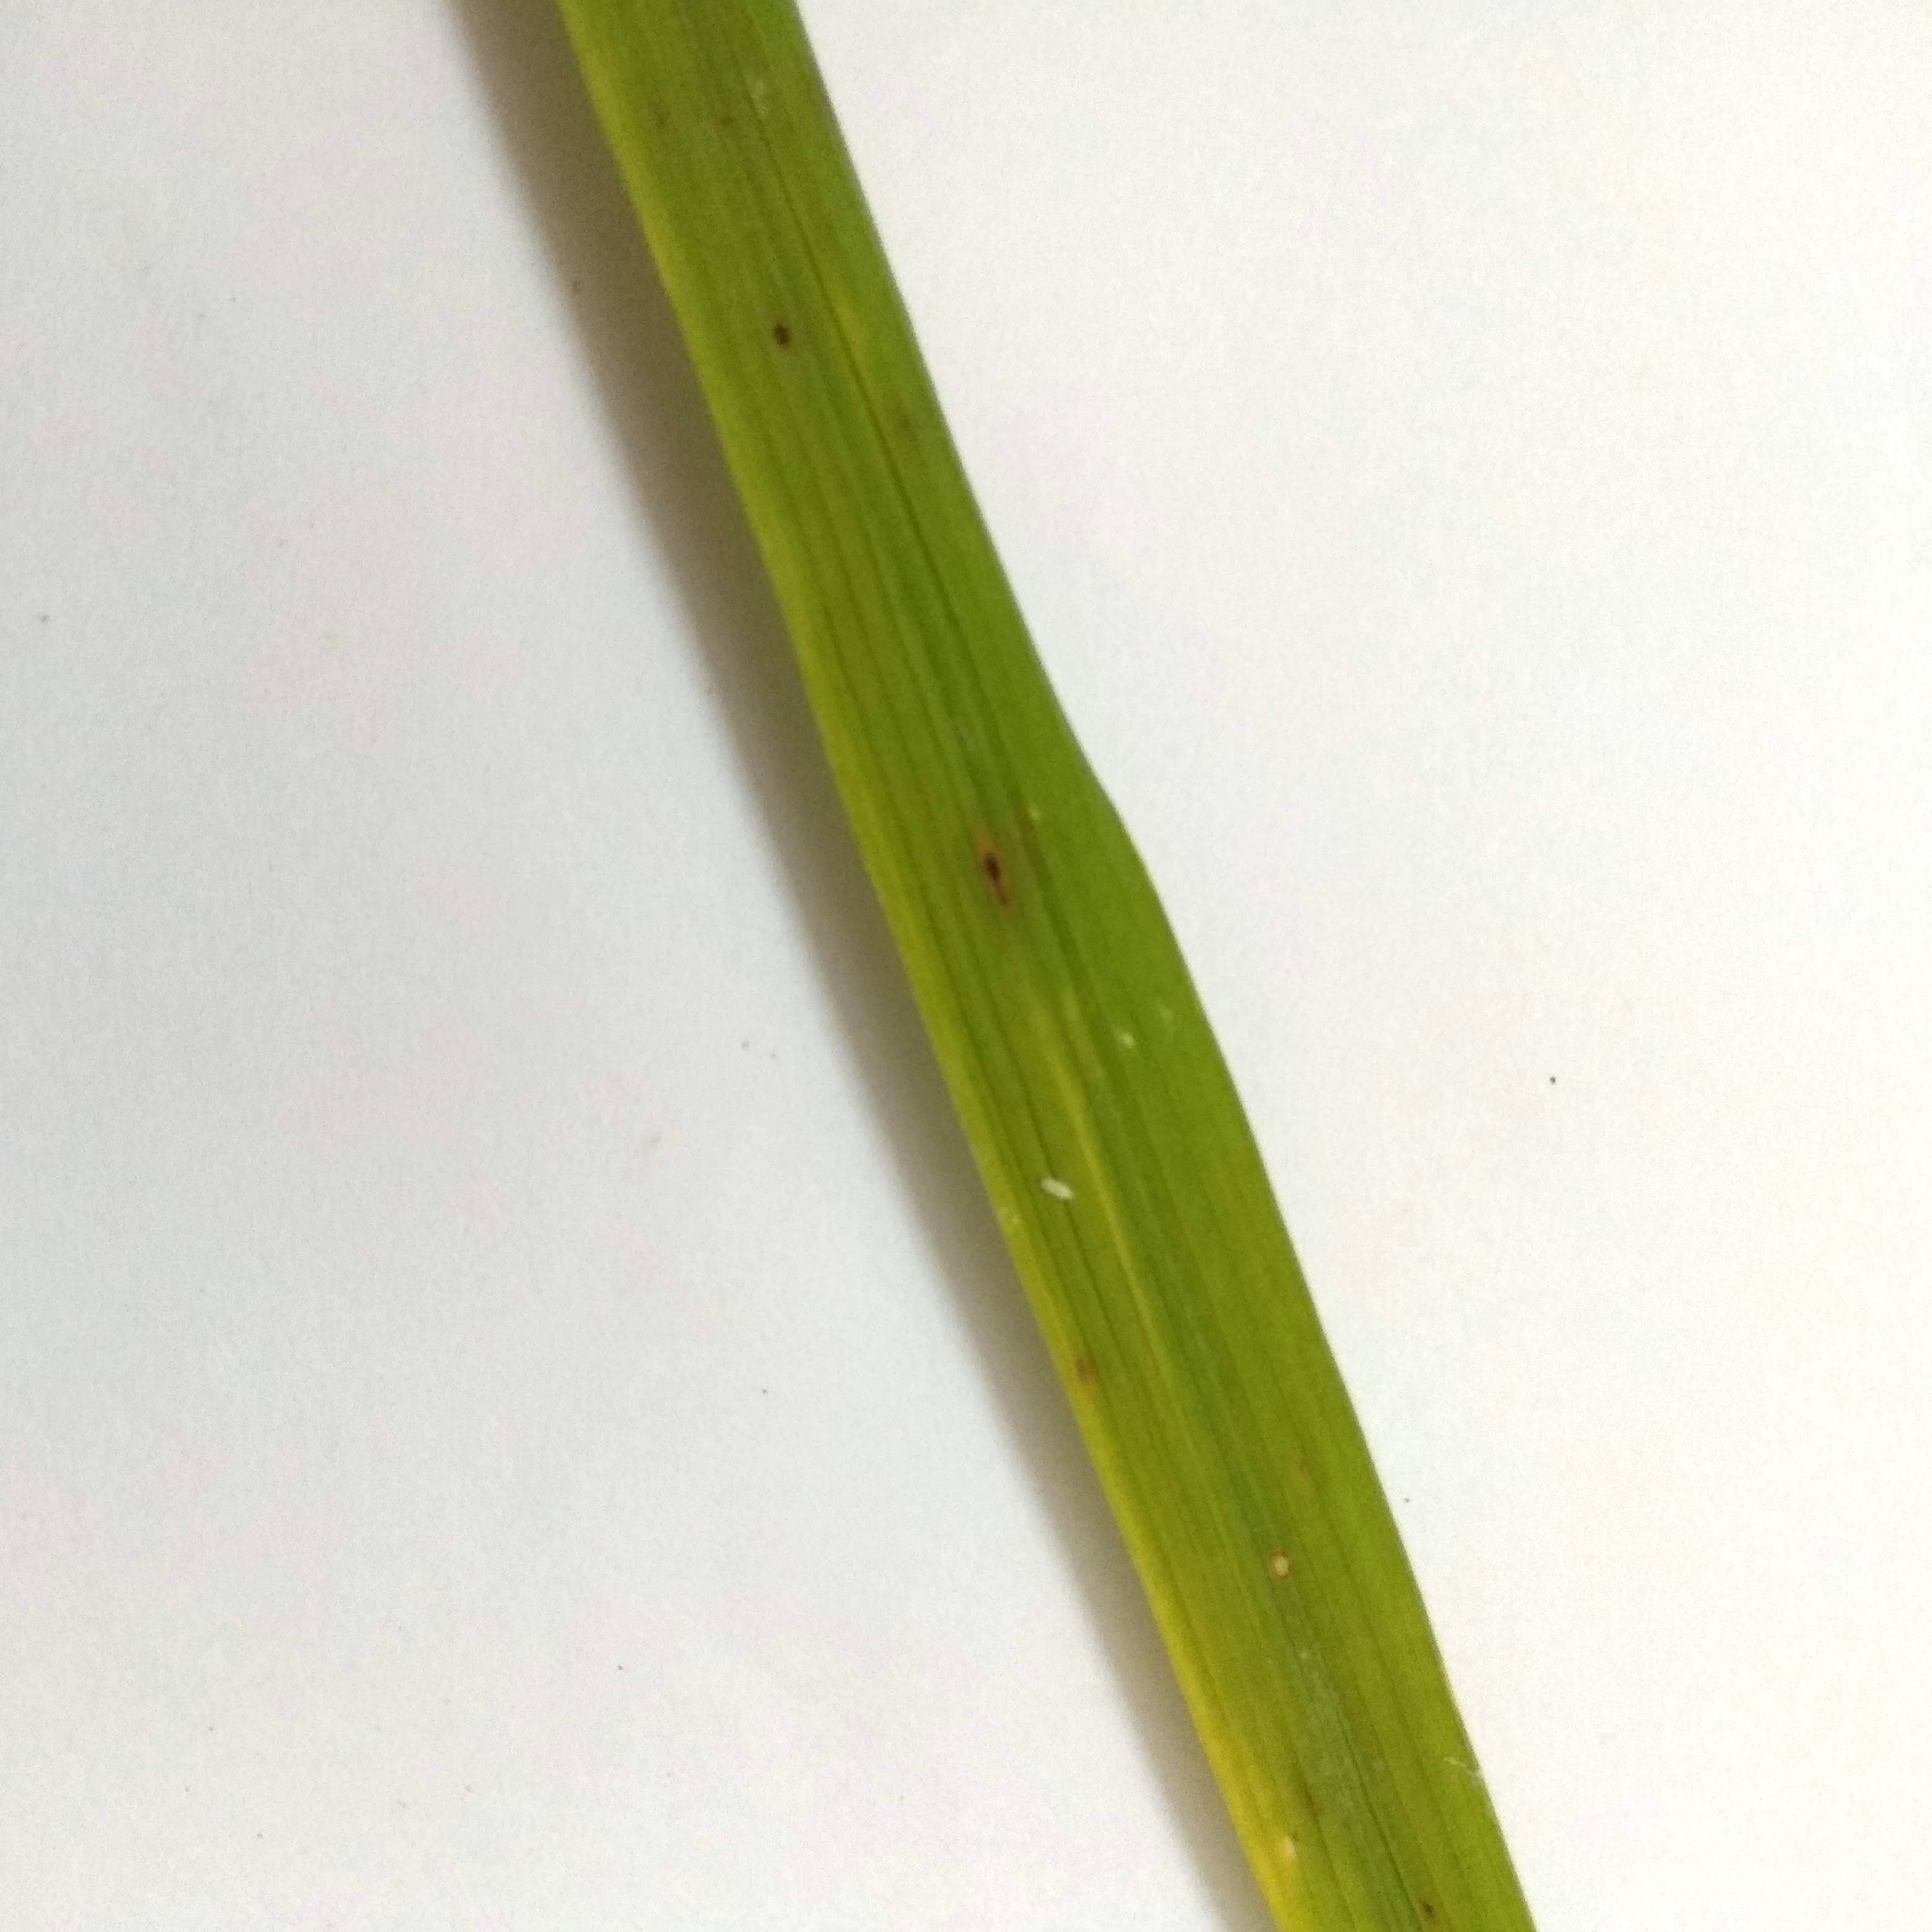brown spot: (959, 821, 1024, 928), (1049, 1330, 1119, 1412), (756, 300, 816, 362), (1412, 1893, 1454, 1927)
